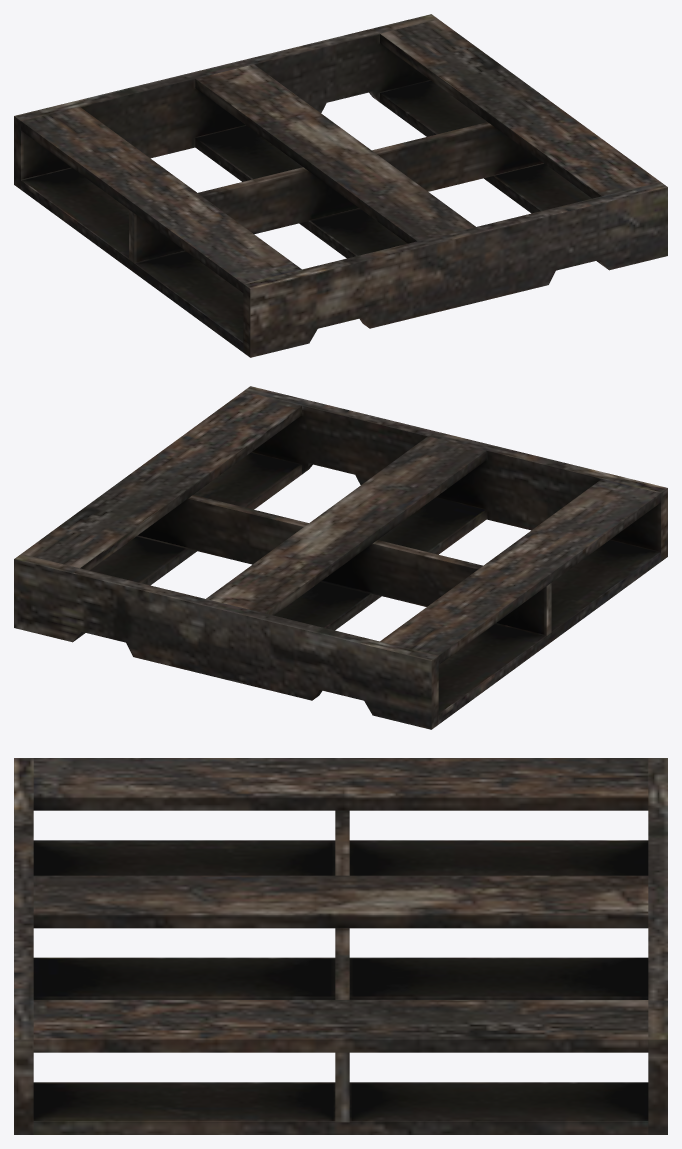
Rendered from CrateBaseStand_M.FBX.
3 renders of one model, top to bottom at view 1: azimuth 30°, elevation 25°; view 2: azimuth 150°, elevation 25°; view 3: azimuth 270°, elevation 25°, orthographic. The views are drawn at different scales.
Visible parts, largest first — view 1: CrateBaseStand_M; view 2: CrateBaseStand_M; view 3: CrateBaseStand_M.
Boxes of the visible parts, x1,y1,x2,y2 form: CrateBaseStand_M: [14, 14, 667, 357]; CrateBaseStand_M: [14, 386, 667, 729]; CrateBaseStand_M: [14, 758, 667, 1134].
Size of the model in its own units: 99.19 by 15.62 by 97.28.
